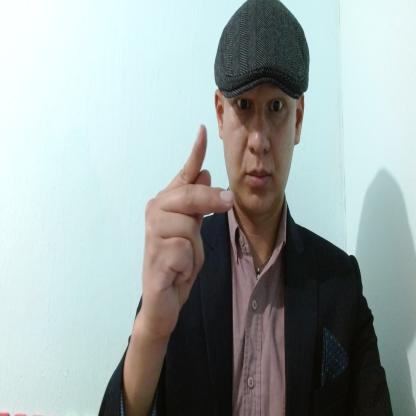P: (141, 122, 236, 340)
